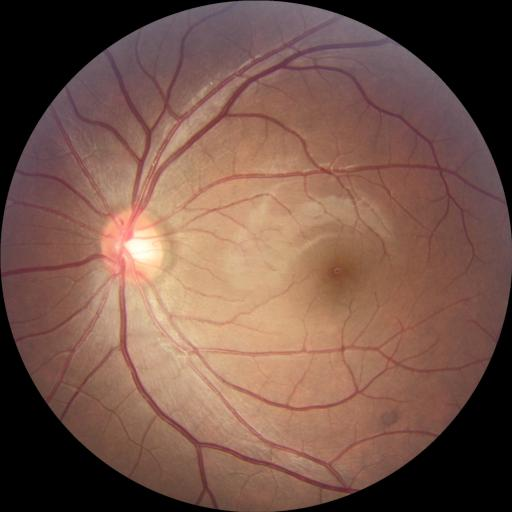Optic Cup: (115, 230, 156, 262)
Optic Disc: (101, 208, 165, 283)
